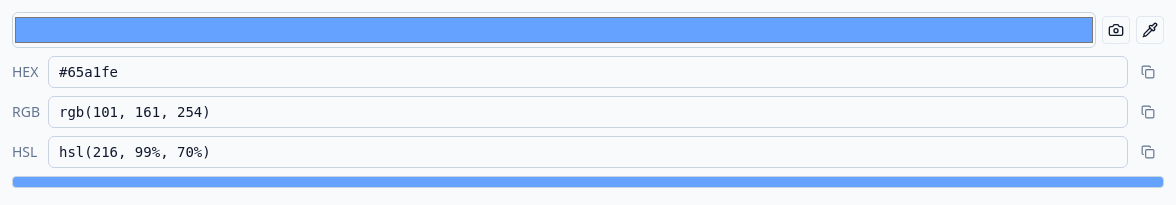
Test case: ColorConverterWidget › typing a new hex value updates rgb and hsl to match
Replace the text in the field labelled "HEX" with "#ff0000" at {"x": 588, "y": 72}, box left=48, top=56, right=1128, bottom=88
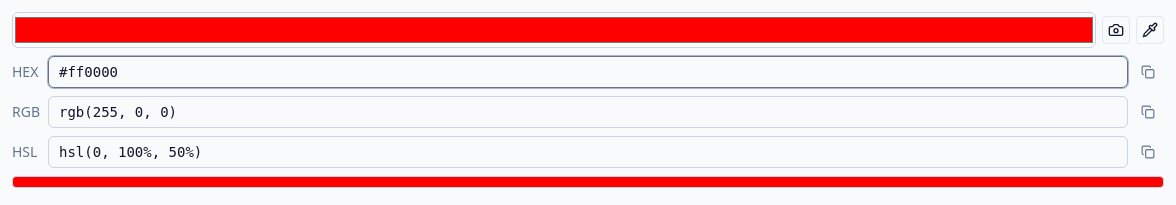
Expected: the field labelled "RGB" holds "rgb(255, 0, 0)", left=48, top=96, right=1128, bottom=128
Expected: the field labelled "HSL" holds "hsl(0, 100%, 50%)", left=48, top=136, right=1128, bottom=168
